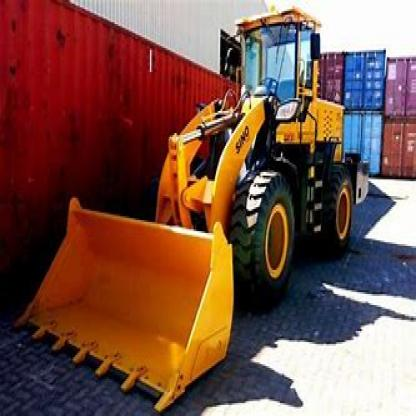bull_dozer/loader/grader: (9, 7, 375, 408)
